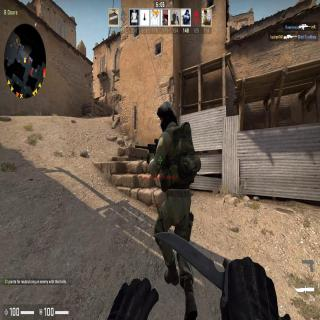CT-Body: (153, 98, 195, 252)
CT-Head: (157, 100, 176, 130)
